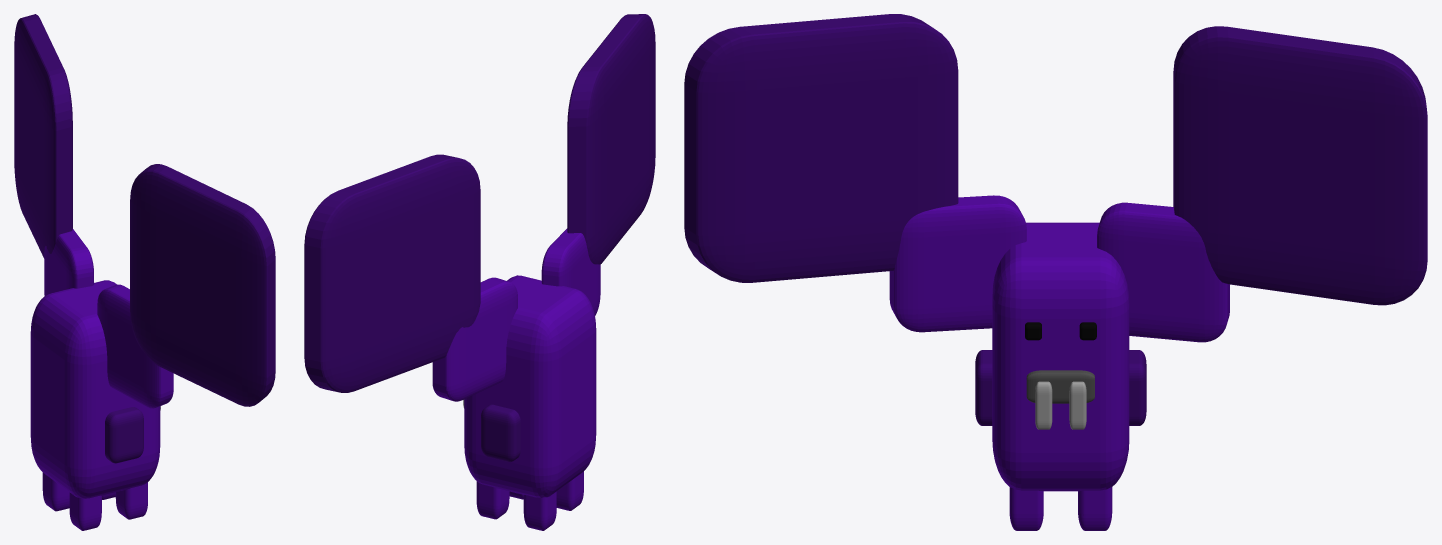
Rendered from Lombera.glb.
3 renders of one model, left to right at view 1: azimuth 30°, elevation 25°; view 2: azimuth 150°, elevation 25°; view 3: azimuth 270°, elevation 25°, orthographic. The views are drawn at different scales.
Parts seen in each view (by area): view 1: Bat.009, Bat.001, Bat.016, Bat.008, Bat.015, Bat.011, Bat.002, Bat.003, Bat.004; view 2: Bat.016, Bat.001, Bat.009, Bat.015, Bat.008, Bat.010, Bat.004, Bat.005, Bat.002; view 3: Bat.009, Bat.016, Bat.001, Bat.008, Bat.015, Bat.012, Bat.005, Bat.003, Bat.011, Bat.010, Bat.013.
Boxes of the visible parts, x1=… form: Bat.009: x1=130, y1=164, x2=275, y2=406; Bat.001: x1=30, y1=280, x2=160, y2=498; Bat.016: x1=14, y1=14, x2=72, y2=258; Bat.008: x1=97, y1=284, x2=173, y2=408; Bat.015: x1=44, y1=229, x2=93, y2=295; Bat.011: x1=105, y1=407, x2=143, y2=463; Bat.002: x1=69, y1=492, x2=101, y2=530; Bat.003: x1=115, y1=482, x2=147, y2=519; Bat.004: x1=42, y1=472, x2=69, y2=511; Bat.016: x1=304, y1=154, x2=480, y2=392; Bat.001: x1=464, y1=275, x2=596, y2=497; Bat.009: x1=567, y1=14, x2=655, y2=264; Bat.015: x1=432, y1=277, x2=517, y2=401; Bat.008: x1=541, y1=228, x2=600, y2=315; Bat.010: x1=481, y1=404, x2=520, y2=462; Bat.004: x1=523, y1=491, x2=556, y2=530; Bat.005: x1=476, y1=481, x2=509, y2=519; Bat.002: x1=556, y1=471, x2=583, y2=510; Bat.009: x1=684, y1=14, x2=958, y2=282; Bat.016: x1=1173, y1=26, x2=1427, y2=305; Bat.001: x1=992, y1=222, x2=1129, y2=491; Bat.008: x1=889, y1=195, x2=1026, y2=332; Bat.015: x1=1097, y1=202, x2=1229, y2=342; Bat.012: x1=1026, y1=370, x2=1094, y2=403; Bat.005: x1=1078, y1=487, x2=1112, y2=530; Bat.003: x1=1009, y1=487, x2=1043, y2=530; Bat.011: x1=975, y1=350, x2=992, y2=425; Bat.010: x1=1129, y1=350, x2=1146, y2=425; Bat.013: x1=1069, y1=381, x2=1086, y2=429.
Size of the model in its own units: 0.5419 by 1.6 by 2.17.
